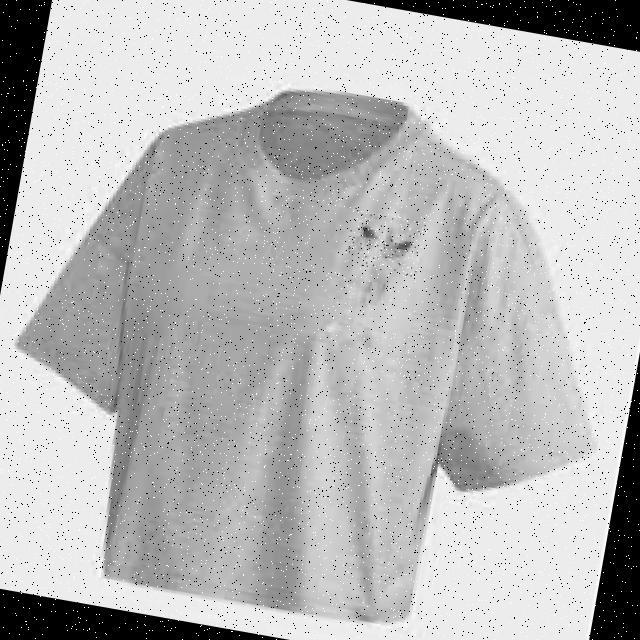Adidas: (343, 206, 426, 278)
